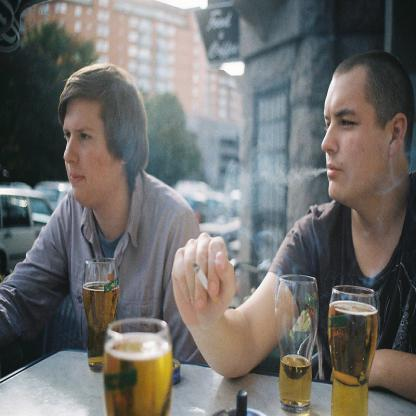drinking: (103, 317, 173, 415), (328, 285, 378, 416), (275, 274, 319, 414), (83, 258, 119, 372)
smoking: (193, 263, 217, 303)
